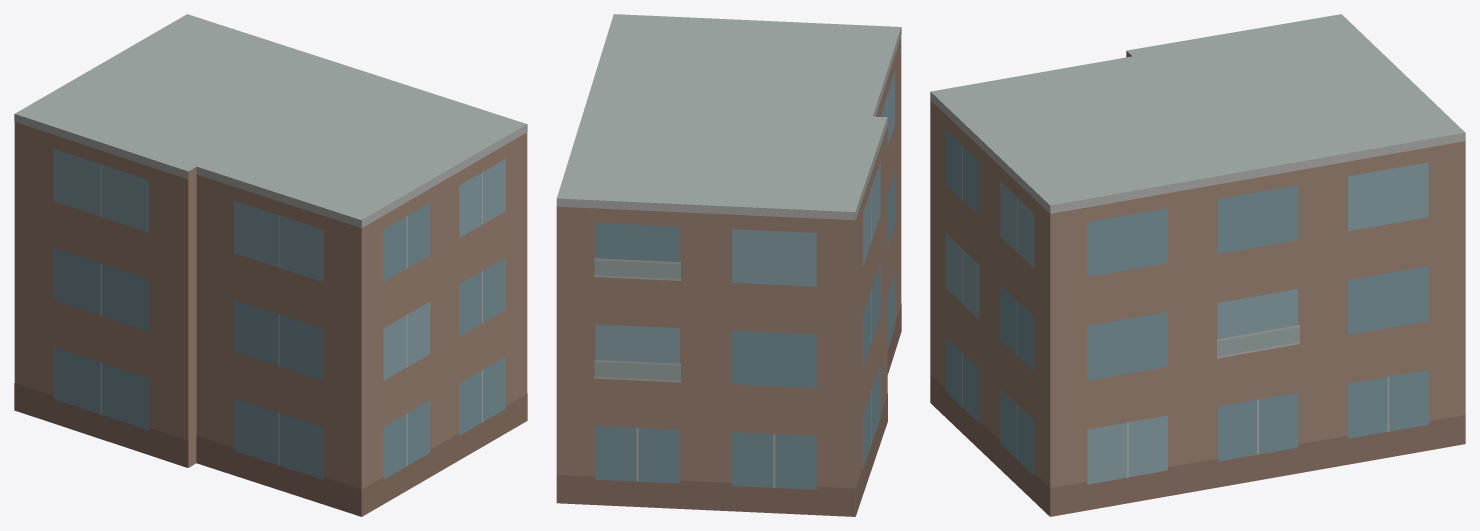
File: survey-upis-32645533.glb
3 views of the same model, side by side, from view 1: azimuth 30°, elevation 25°; view 2: azimuth 150°, elevation 25°; view 3: azimuth 270°, elevation 25° (orthographic). The views are drawn at different scales.
Visible parts, largest first — view 1: survey-upis-32645533.tmp; view 2: survey-upis-32645533.tmp; view 3: survey-upis-32645533.tmp.
Part boxes in pixels (bbox=[...]): survey-upis-32645533.tmp: bbox=[14, 14, 527, 516]; survey-upis-32645533.tmp: bbox=[556, 14, 901, 516]; survey-upis-32645533.tmp: bbox=[930, 14, 1465, 516].
Bounding box in the file's own units: 12.09 × 9.15 × 14.27.
